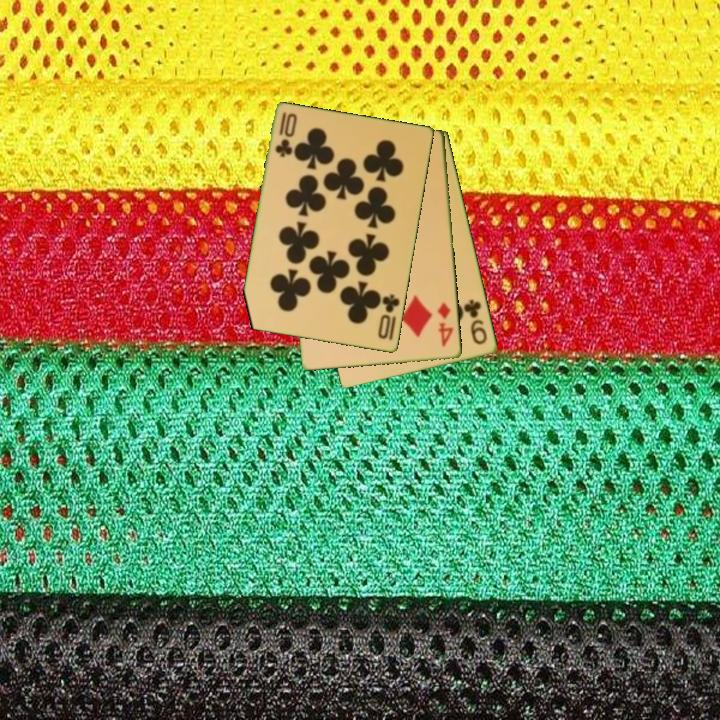10c: (374, 291, 403, 342), (272, 109, 294, 161)
4d: (434, 299, 456, 350)
9c: (461, 296, 490, 348)
